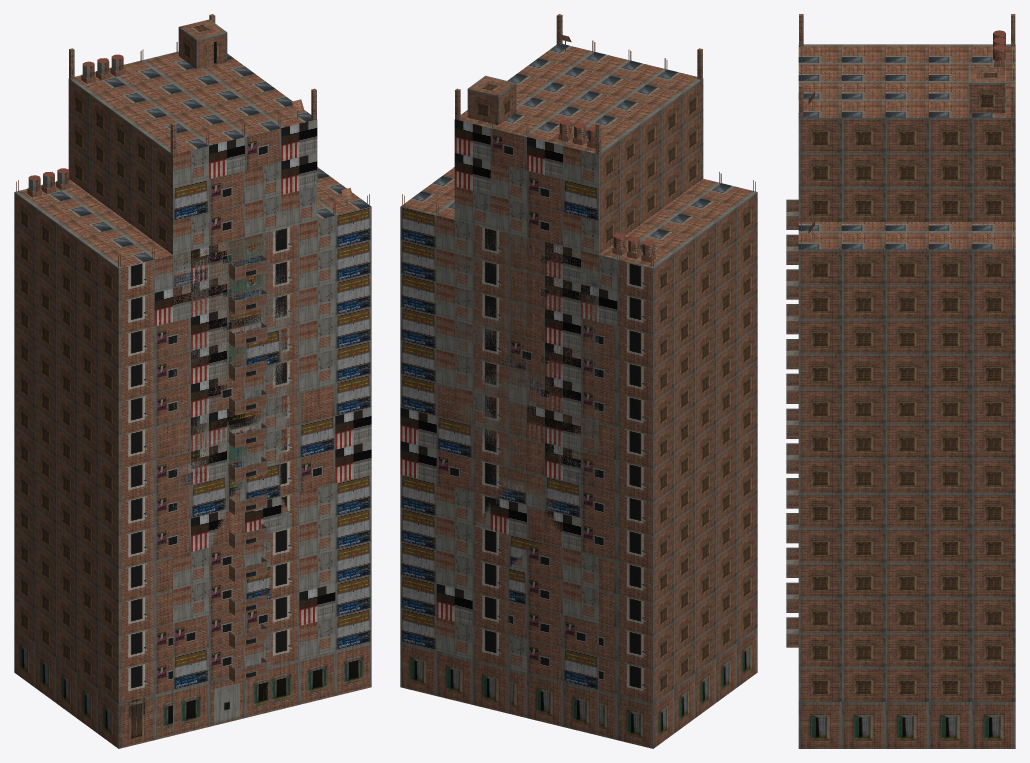
3 views of the same model, side by side, from view 1: azimuth 30°, elevation 25°; view 2: azimuth 150°, elevation 25°; view 3: azimuth 270°, elevation 25° (orthographic). The views are drawn at different scales.
Parts seen in each view (by area): view 1: Brick_7x5_f13_v0, Brick_4x5_f16_v0; view 2: Brick_7x5_f13_v0, Brick_4x5_f16_v0; view 3: Brick_7x5_f13_v0, Brick_4x5_f16_v0.
Part boxes in pixels (left/top/right/bottom): Brick_7x5_f13_v0: left=14, top=167, right=371, bottom=748; Brick_4x5_f16_v0: left=68, top=14, right=317, bottom=735; Brick_7x5_f13_v0: left=400, top=167, right=757, bottom=748; Brick_4x5_f16_v0: left=454, top=14, right=703, bottom=735; Brick_7x5_f13_v0: left=786, top=199, right=1015, bottom=748; Brick_4x5_f16_v0: left=798, top=14, right=1015, bottom=221.
Bounding box in the file's own units: 24.5 × 56.5 × 18.5.
1 material, 1 textured.
